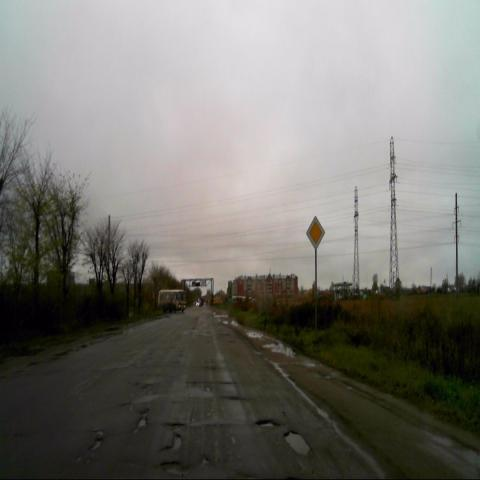2_1: (306, 216, 325, 250)
